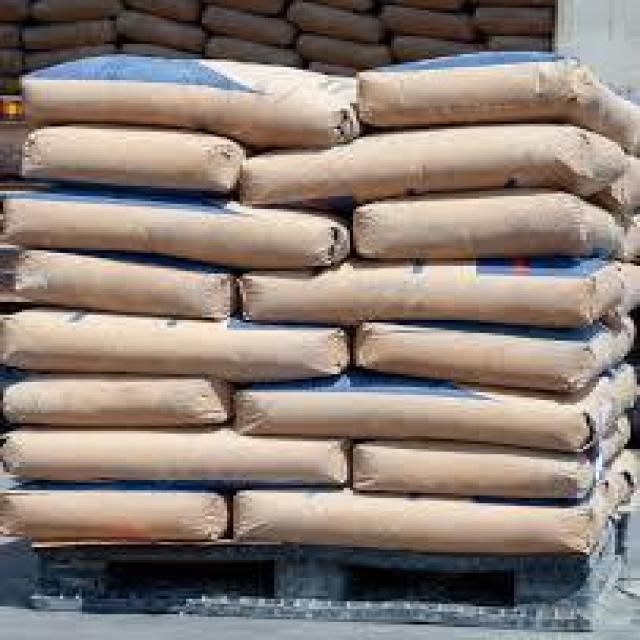gunny_bag: (238, 121, 638, 214), (15, 52, 367, 149), (356, 48, 640, 156), (229, 375, 619, 453), (3, 189, 353, 271), (0, 303, 353, 383), (239, 258, 631, 329), (230, 484, 615, 556), (0, 426, 353, 487), (353, 319, 631, 396), (349, 189, 617, 260), (15, 121, 247, 196), (9, 247, 237, 318), (352, 440, 605, 502), (1, 369, 236, 427), (0, 484, 230, 539), (283, 0, 387, 43), (114, 6, 209, 53), (200, 4, 297, 47), (379, 1, 481, 41), (295, 30, 396, 69), (22, 16, 118, 52), (203, 33, 304, 67), (23, 42, 119, 70), (391, 33, 487, 61), (471, 5, 554, 34), (29, 0, 127, 22), (128, 0, 204, 25), (118, 41, 204, 59), (210, 0, 289, 17), (484, 34, 552, 52), (306, 0, 377, 13), (0, 0, 31, 23), (0, 48, 24, 76), (0, 21, 21, 49)
